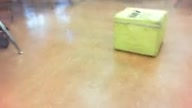cube: (113, 6, 168, 57)
